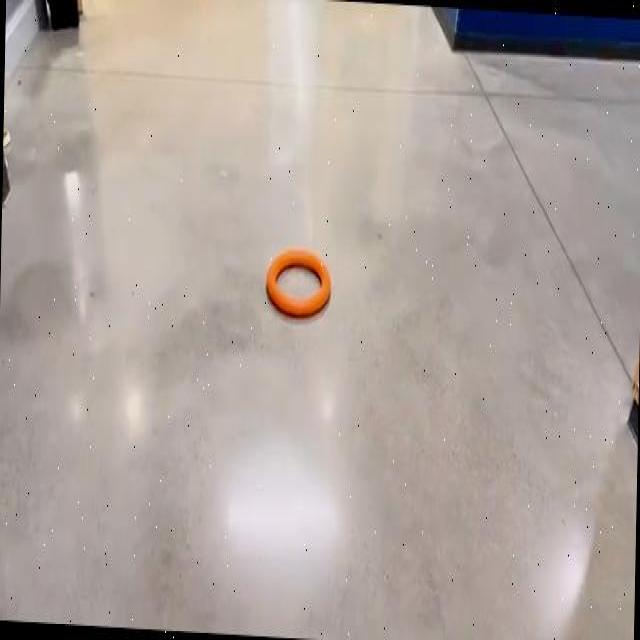note: (266, 249, 331, 316)
